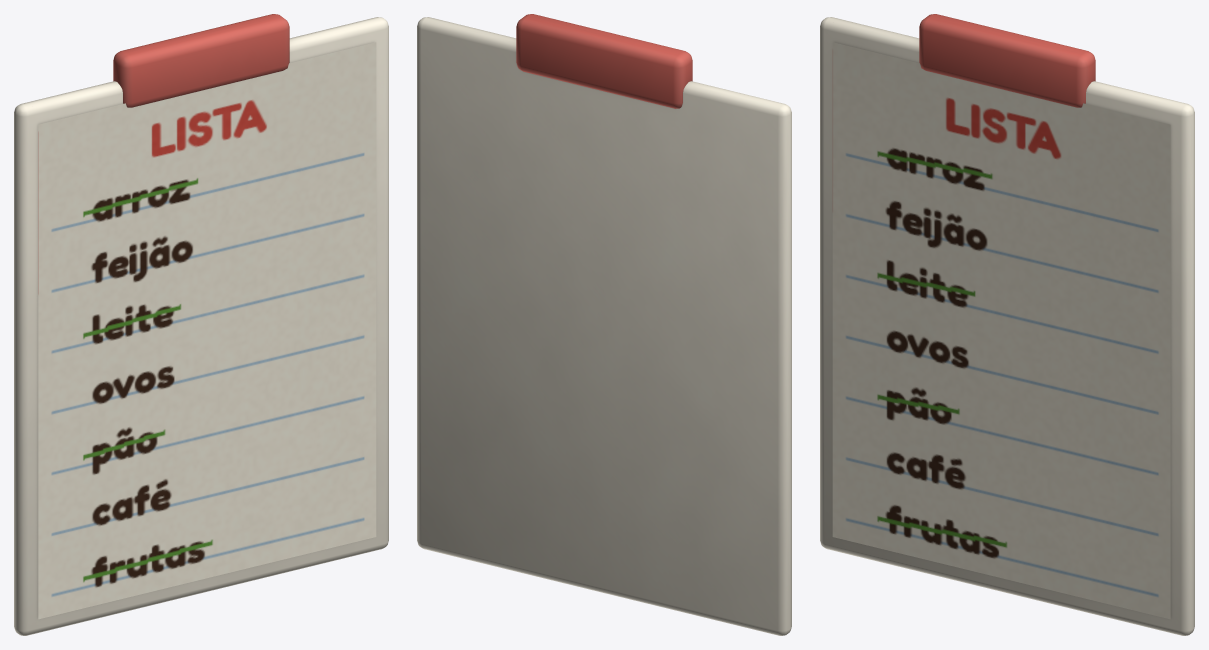
The model's file is ShoppingList.fbx.
The picture shows the model from 3 angles, left to right: view 1: azimuth 30°, elevation 25°; view 2: azimuth 150°, elevation 25°; view 3: azimuth 330°, elevation 25°; orthographic projection.
Visible parts, largest first — view 1: ShoppingList; view 2: ShoppingList; view 3: ShoppingList.
Boxes of the visible parts, box(x1,y1,x2,y2) form: ShoppingList: box(14, 14, 388, 635); ShoppingList: box(417, 14, 791, 635); ShoppingList: box(820, 14, 1194, 635).
Bounding box in the file's own units: 44 × 63 × 3.
